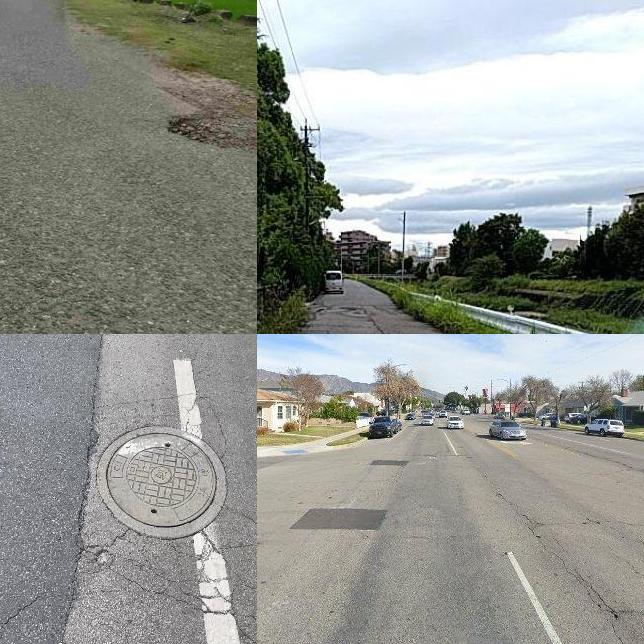Lubang: (106, 431, 223, 533)
Pinggir: (145, 96, 257, 166)
Sambungan: (0, 334, 99, 644), (288, 506, 388, 530)
